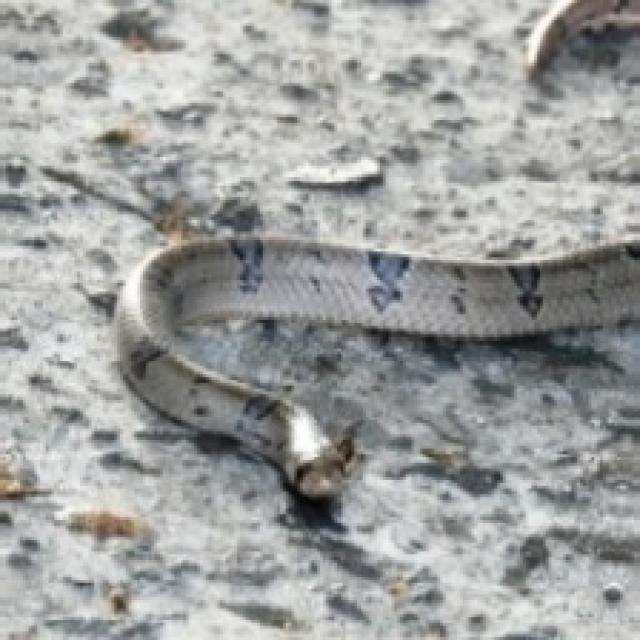northern short-headed snake: (114, 234, 637, 497), (114, 237, 637, 497), (526, 0, 637, 77)
